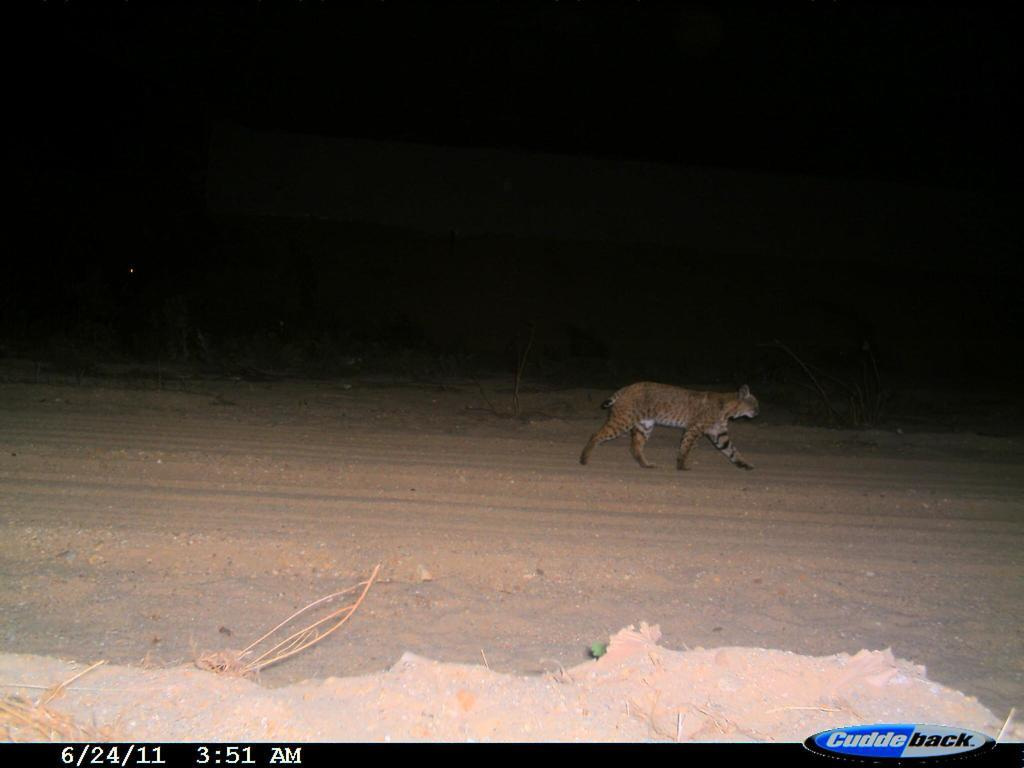bobcat: (566, 373, 770, 488)
